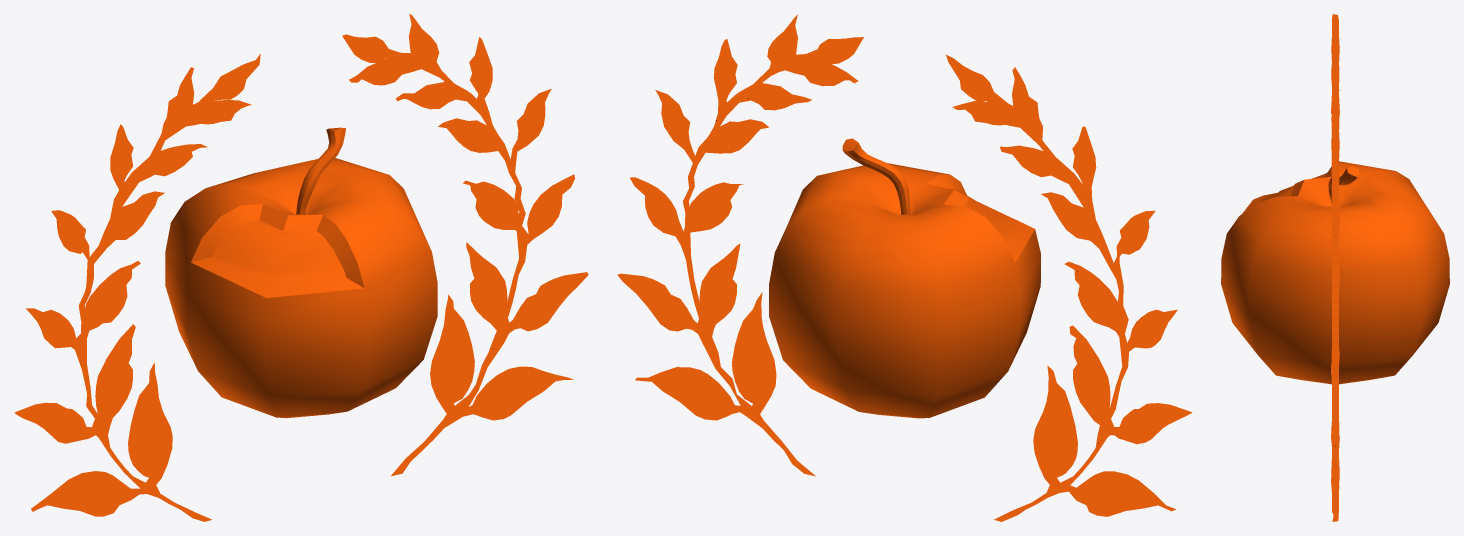
File: M_O_LifeBonus.fbx
3 renders of one model, left to right at view 1: azimuth 30°, elevation 25°; view 2: azimuth 150°, elevation 25°; view 3: azimuth 270°, elevation 25°, orthographic. The views are drawn at different scales.
Visible parts, largest first — view 1: M_O_Apple, M_LB_Crown_Leaves1; view 2: M_O_Apple, M_LB_Crown_Leaves1; view 3: M_O_Apple, M_LB_Crown_Leaves1.
Boxes of the visible parts, x1,y1,x2,y2 form: M_O_Apple: (165, 127, 437, 418); M_LB_Crown_Leaves1: (14, 14, 588, 521); M_O_Apple: (769, 138, 1040, 418); M_LB_Crown_Leaves1: (617, 14, 1192, 521); M_O_Apple: (1221, 161, 1449, 384); M_LB_Crown_Leaves1: (1331, 14, 1339, 521).
Bounding box in the file's own units: 5.47 × 4.17 × 2.19.
